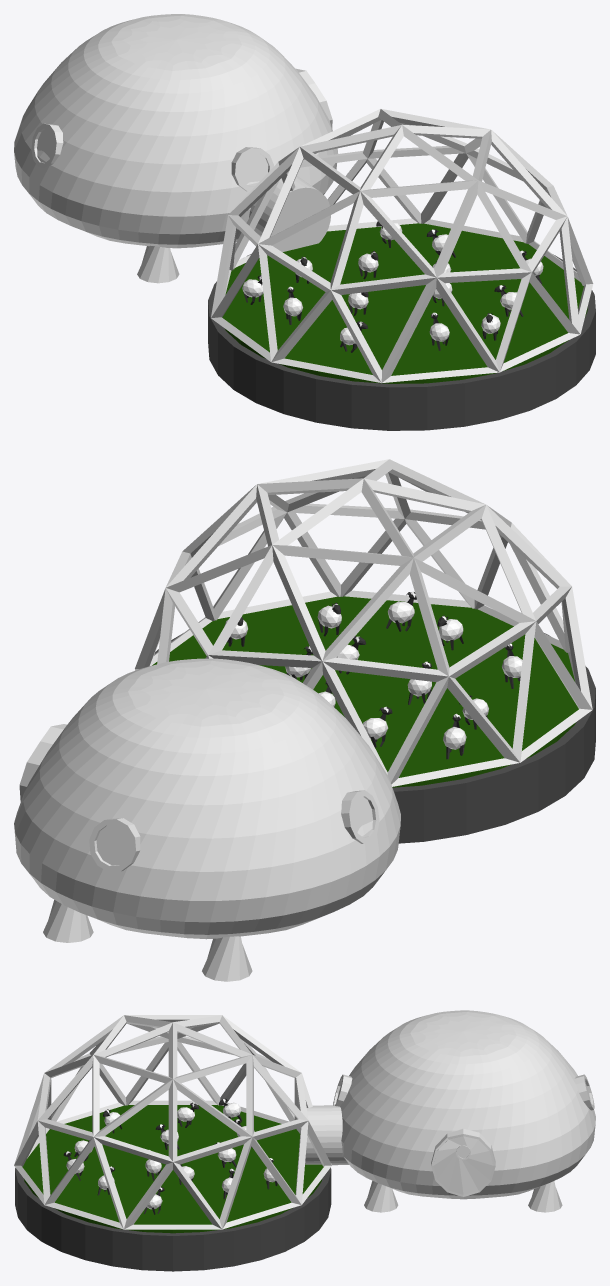
The model's file is MarsAnimalFarm_1.fbx.
The picture shows the model from 3 angles, top to bottom: view 1: azimuth 30°, elevation 25°; view 2: azimuth 150°, elevation 25°; view 3: azimuth 270°, elevation 25°; orthographic projection. The views are drawn at different scales.
Visible parts, largest first — view 1: Cylinder.014; view 2: Cylinder.014; view 3: Cylinder.014.
Boxes of the visible parts, <box> form: Cylinder.014: <box>14,14,595,430</box>; Cylinder.014: <box>14,459,595,981</box>; Cylinder.014: <box>14,1010,595,1271</box>.
Size of the model in its own units: 670 by 403 by 1166.
